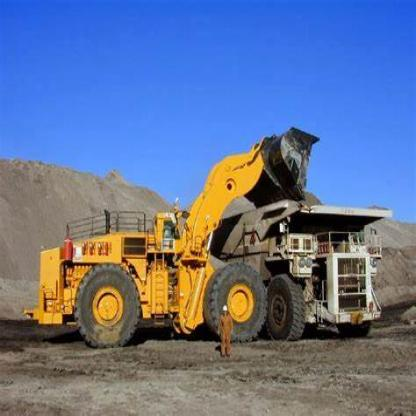bull_dozer/loader/grader: (19, 116, 324, 357)
